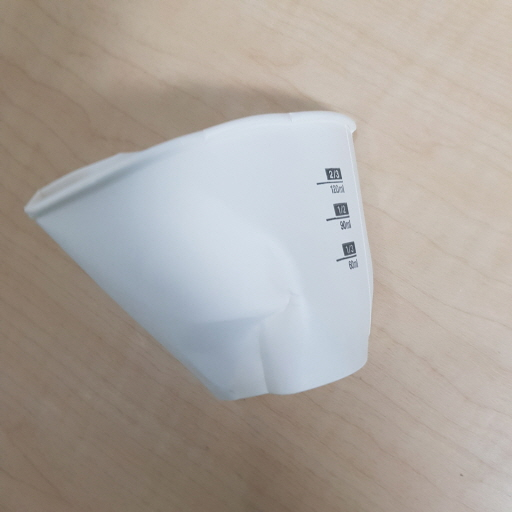Paper_1: (24, 108, 374, 407)
